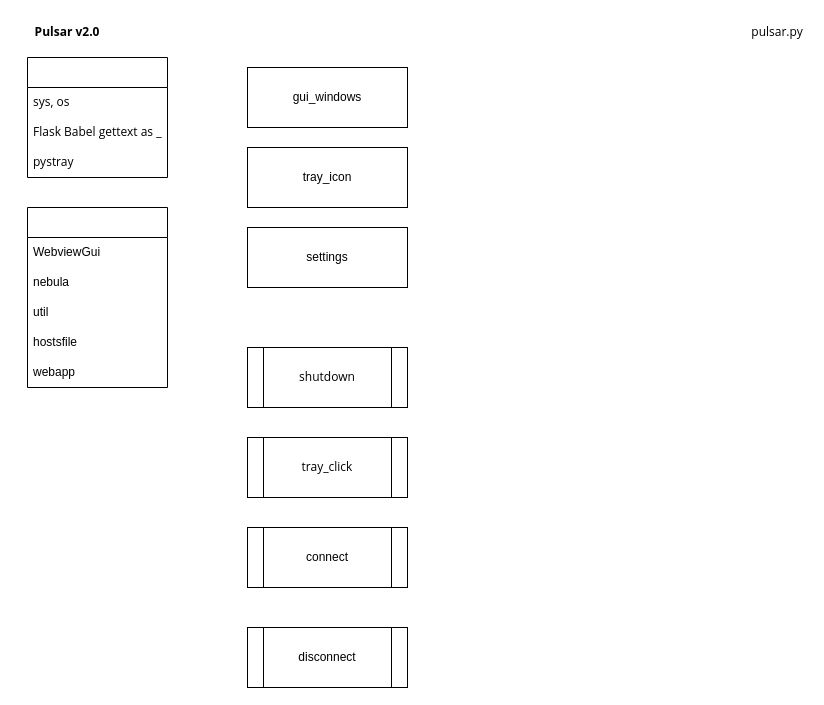
The diagram is 824 pixels wide and 705 high, and some of its shapes have lost their labels. The shapes that lost their labels are listed below. From the top down, each one's box as (x1, y1, x2, y2) in pixels, then its label:
(26, 56, 168, 178): System Modules
(26, 206, 168, 388): Pulsar Modules
